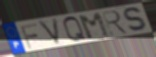F: (19, 23, 39, 50)
M: (77, 11, 112, 42)
Q: (62, 16, 89, 44)
R: (100, 9, 130, 37)
S: (123, 7, 150, 33)
V: (37, 17, 64, 48)
